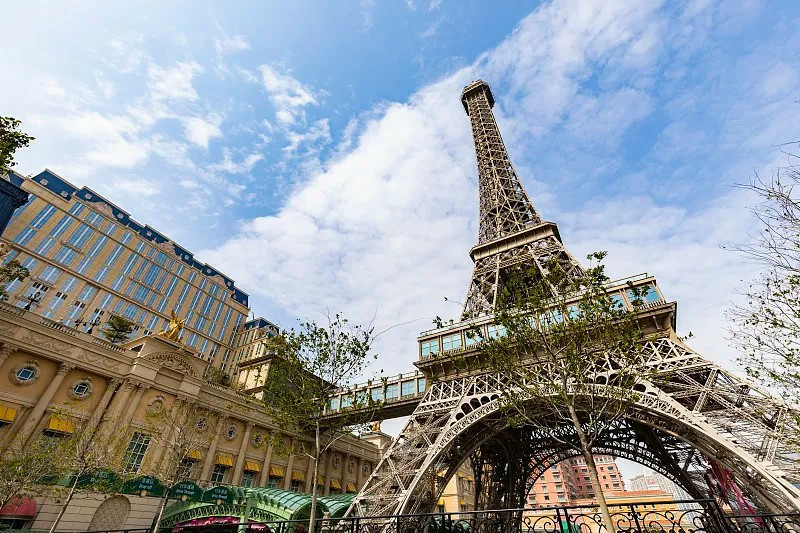Eiffel: (330, 77, 800, 533)
